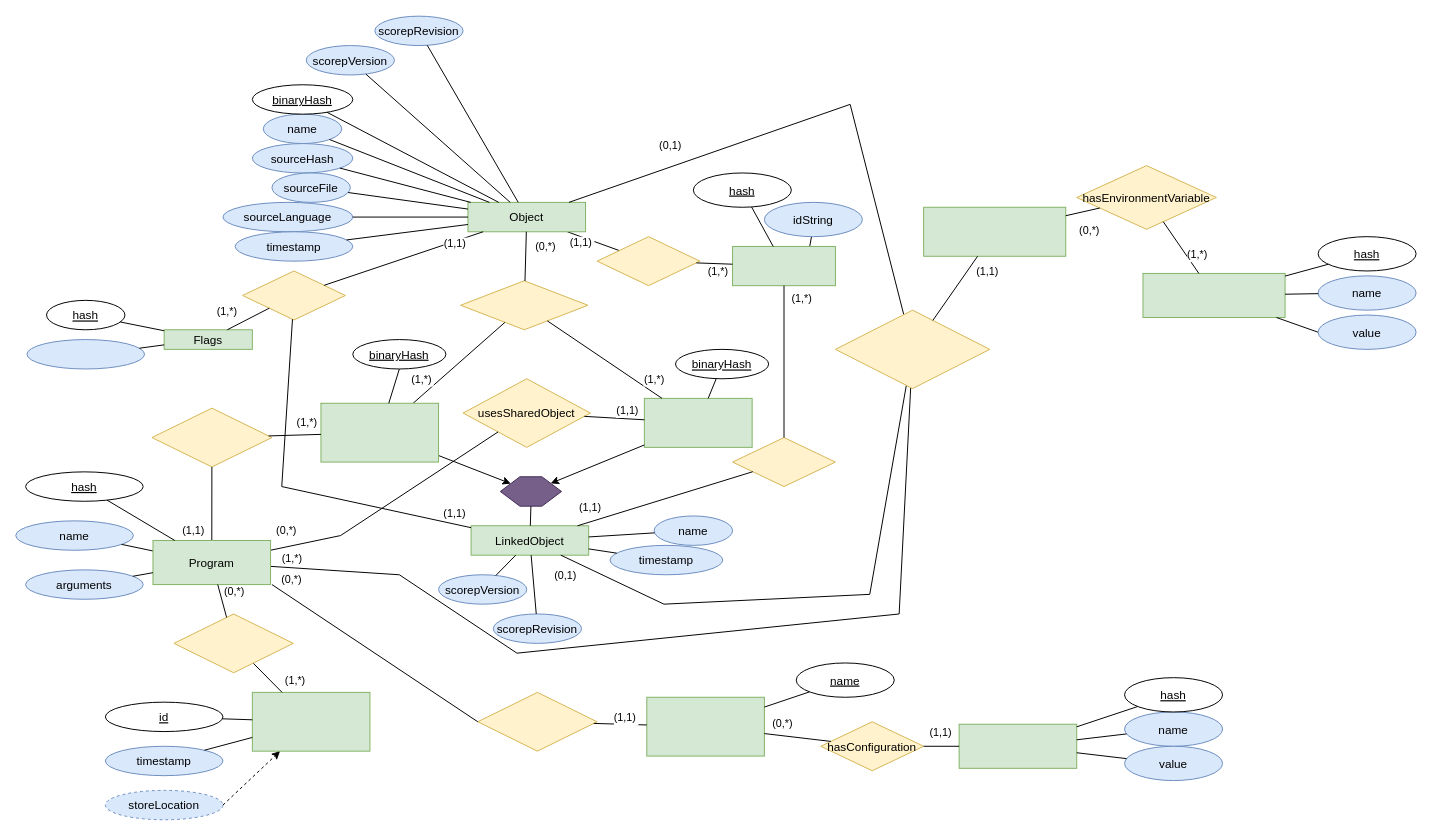
This 1433x836 diagram has some shape labels left out. The box of each missing label's shape, as (x1, y1, x2, y2) in pixels:
Compiler: (732, 245, 835, 286)
ConfigEntry: (958, 723, 1077, 768)
EnvironmentContext: (923, 206, 1066, 256)
EnvironmentVariable: (1142, 272, 1285, 318)
Executable: (320, 402, 439, 462)
ExperimentRun: (251, 691, 370, 751)
flagString: (26, 339, 145, 369)
hasEnvironmentContext: (834, 309, 990, 389)
is-a: (499, 476, 562, 506)
isCompiledBy: (596, 236, 700, 286)
isConstructedFrom: (460, 280, 588, 330)
isLinkedBy: (732, 437, 835, 487)
SharedObject: (643, 397, 752, 447)
Subsystem: (646, 696, 764, 756)
usesExecutable: (151, 407, 272, 467)
usesFlags: (242, 270, 345, 320)
usesProgram: (173, 613, 293, 673)
usesSubsystems: (477, 691, 597, 751)
